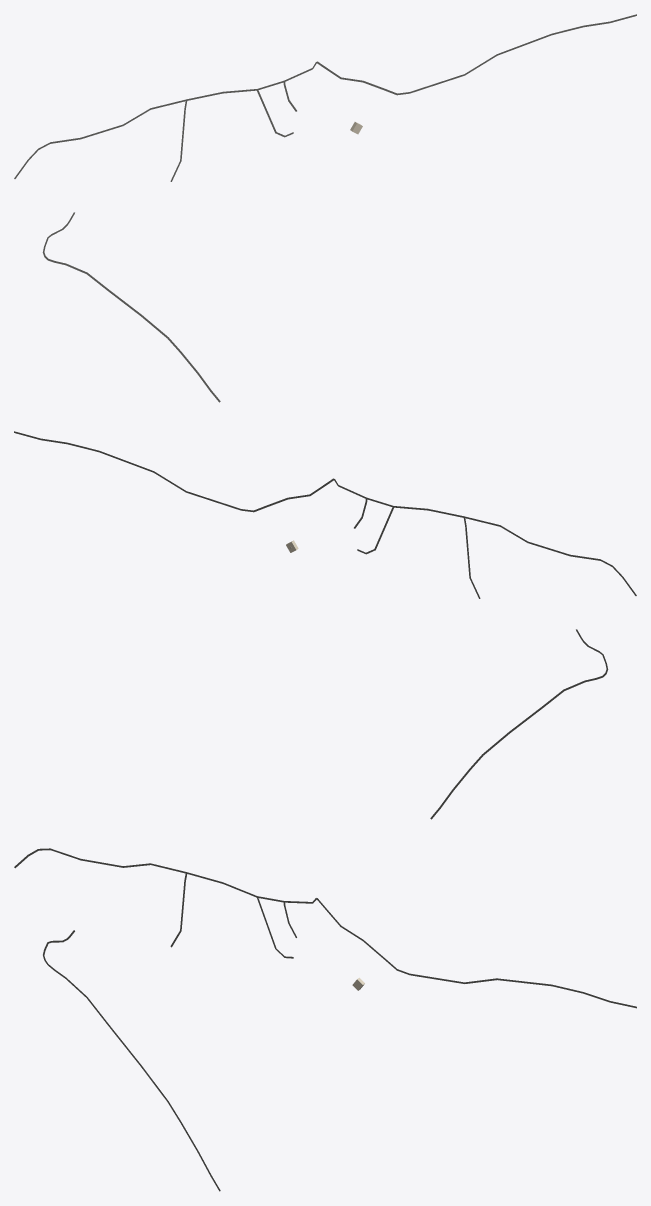
Rendered from historic-palestine-10_20_3516_3144.glb.
The picture shows the model from 3 angles, top to bottom: view 1: azimuth 30°, elevation 25°; view 2: azimuth 150°, elevation 25°; view 3: azimuth 330°, elevation 25°; orthographic projection.
Parts seen in each view (by area): view 1: Road .004, Road .003, Road .005; view 2: Road .004, Road .003, Road .005; view 3: Road .004, Road .003, Road .005.
Part boxes in pixels (x1,y1,x2,y2): Road .004: (317, 14, 636, 95); Road .003: (14, 62, 317, 178); Road .005: (42, 212, 220, 402); Road .004: (14, 431, 333, 512); Road .003: (333, 479, 636, 595); Road .005: (430, 629, 608, 819); Road .004: (316, 898, 636, 1008); Road .003: (14, 848, 316, 903); Road .005: (43, 930, 220, 1191).
Size of the model in its own units: 1203 by 586 by 8.7.
